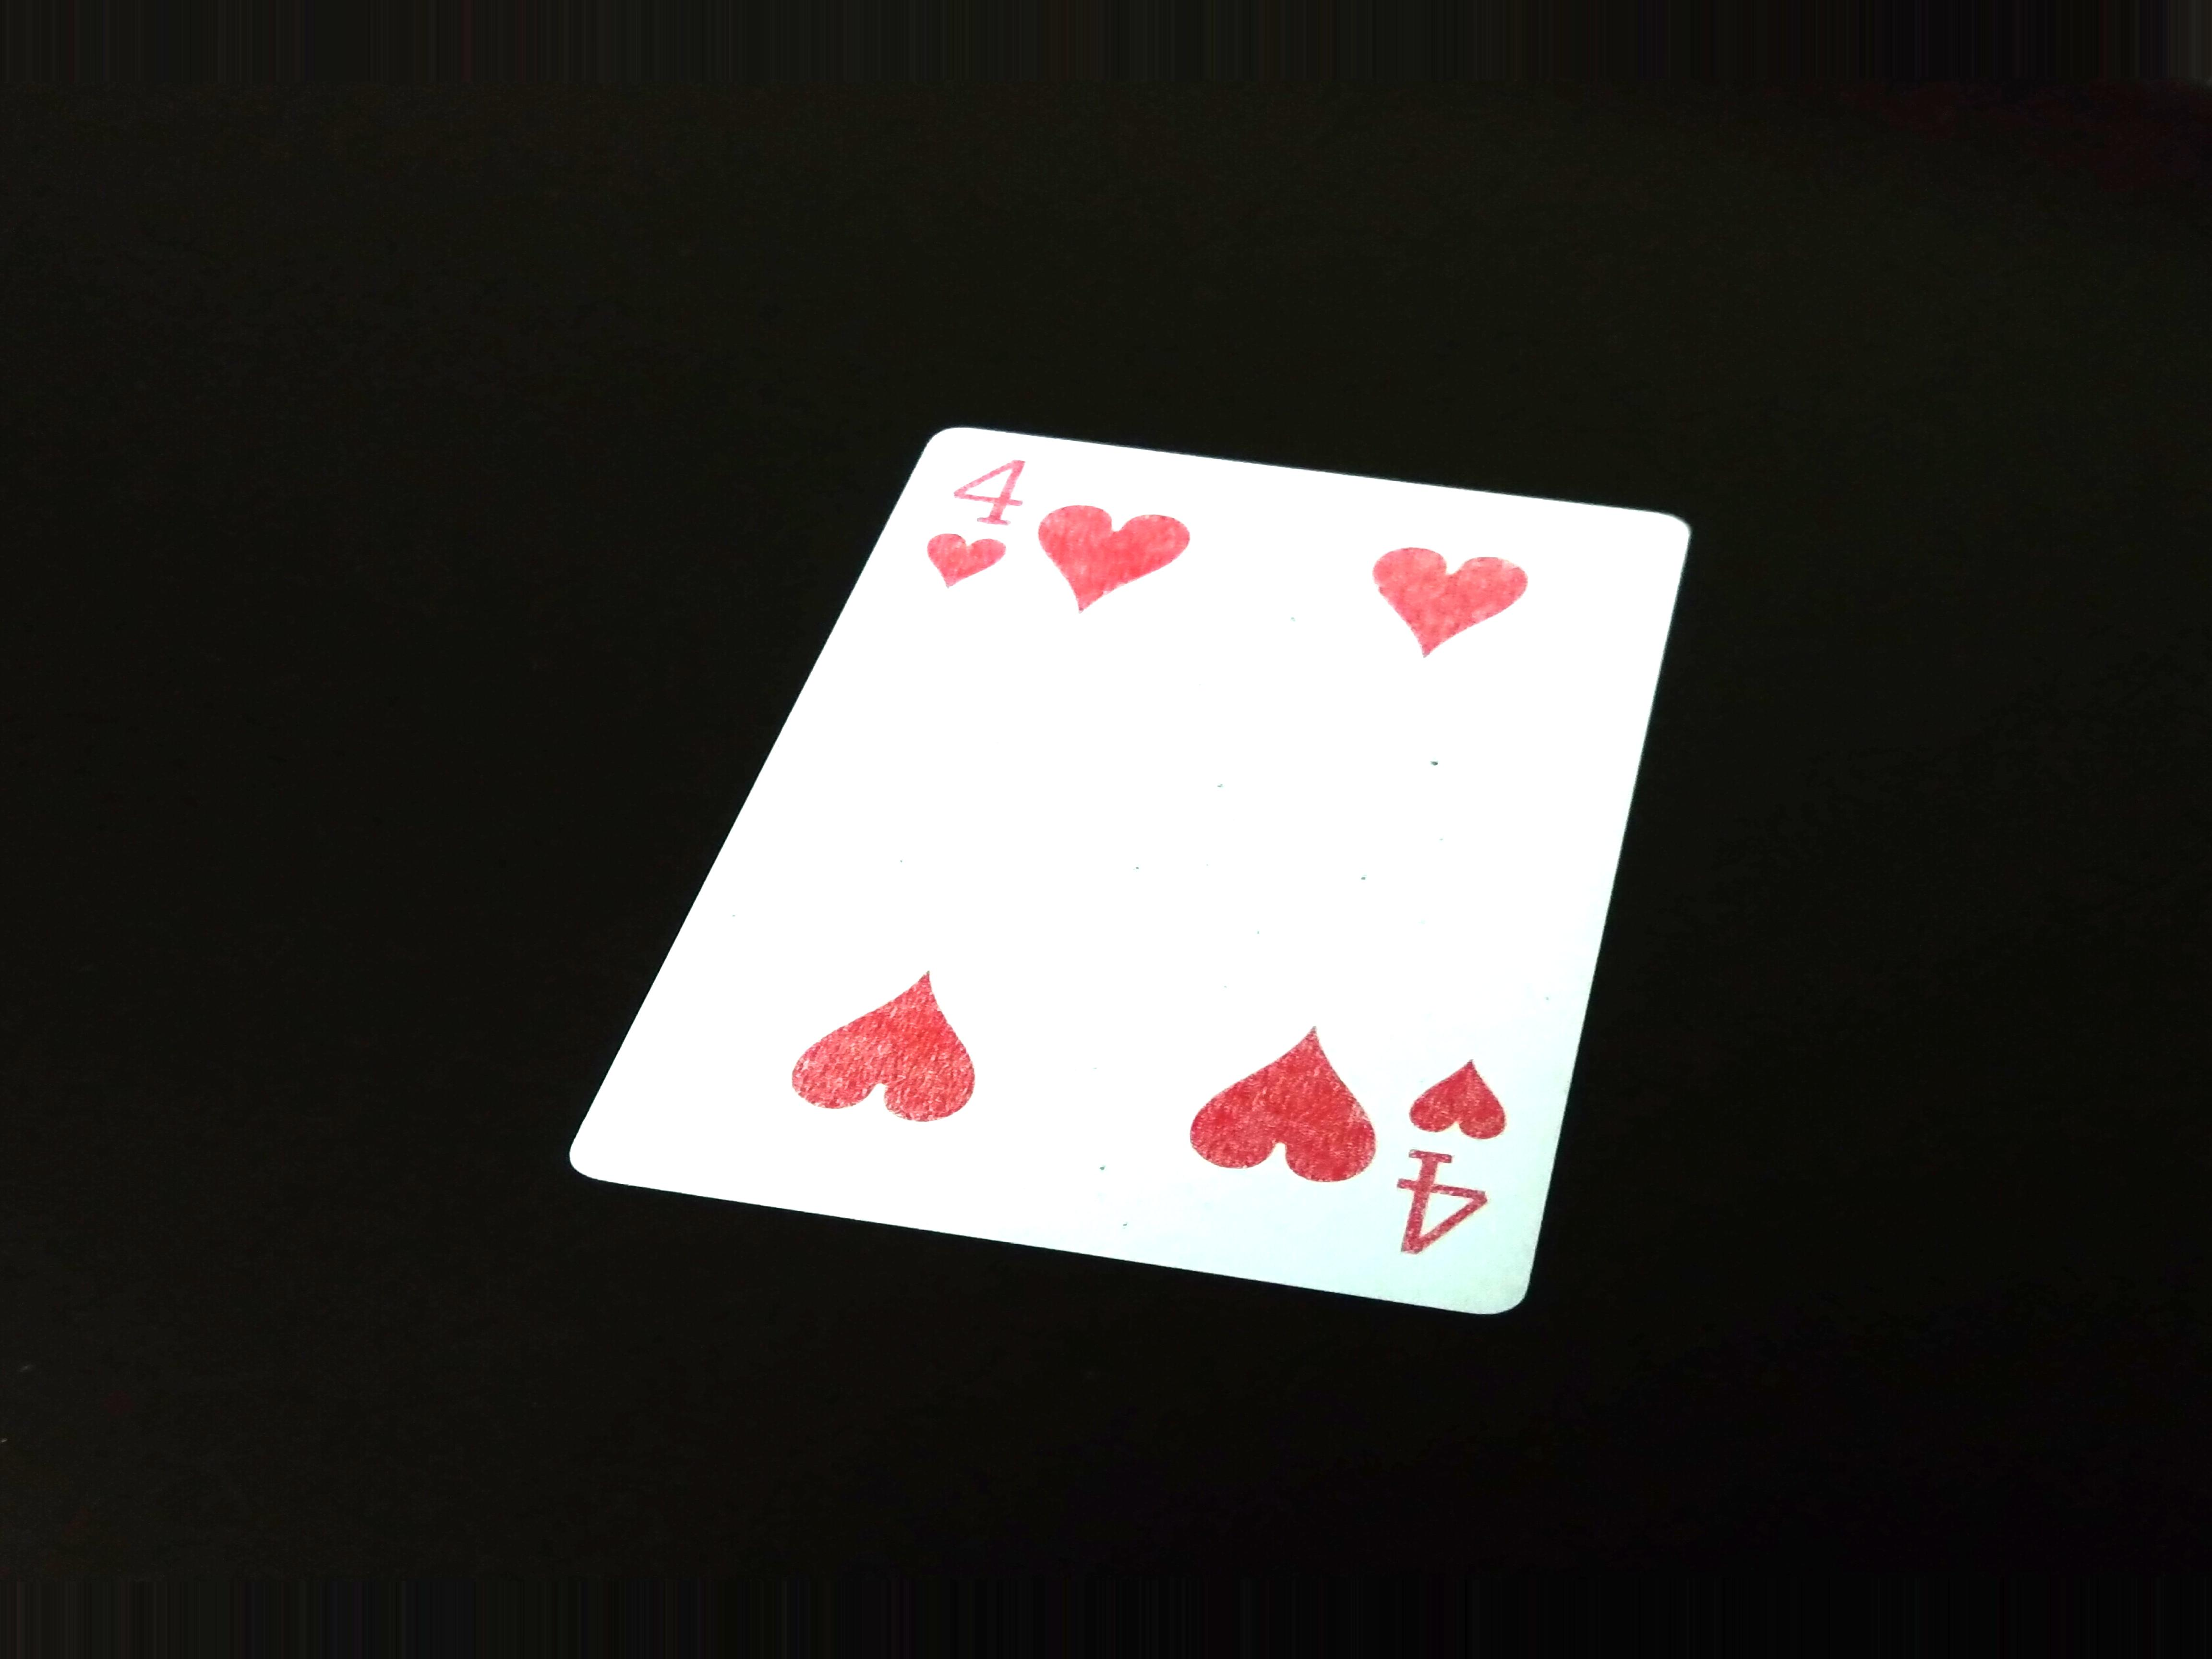4H: (918, 450, 1035, 599)
